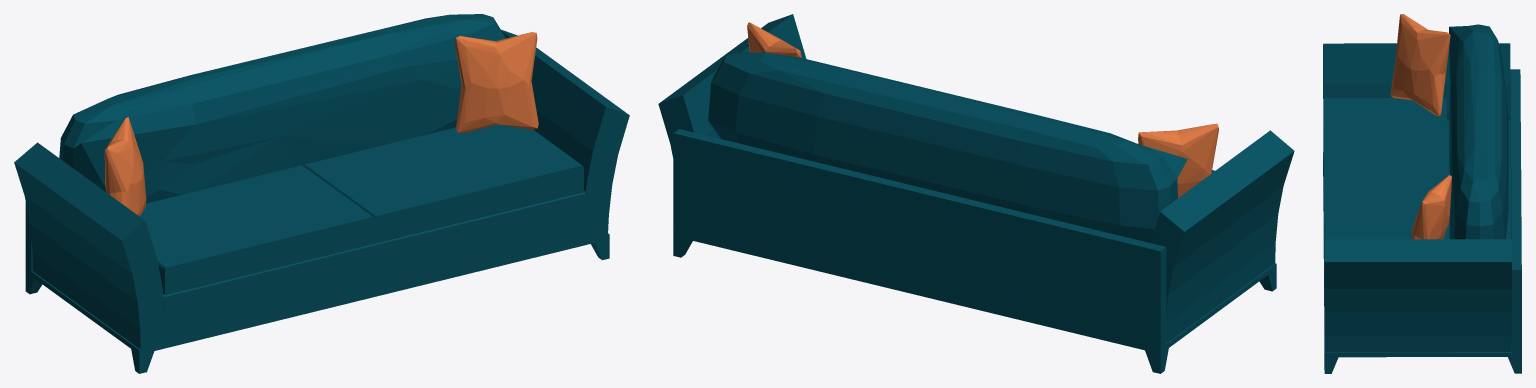
File: Accesories_Sofa_Large.007.glb
3 renders of one model, left to right at view 1: azimuth 30°, elevation 25°; view 2: azimuth 150°, elevation 25°; view 3: azimuth 270°, elevation 25°, orthographic. The views are drawn at different scales.
Visible parts, largest first — view 1: Accesories_Sofa_Large.007; view 2: Accesories_Sofa_Large.007; view 3: Accesories_Sofa_Large.007.
Part boxes in pixels (<box>): Accesories_Sofa_Large.007: <box>14,14,629,373</box>; Accesories_Sofa_Large.007: <box>658,14,1294,373</box>; Accesories_Sofa_Large.007: <box>1323,14,1521,373</box>.
Bounding box in the file's own units: 2.38 × 0.8714 × 0.9216.
Materials: 1 (1 with a texture image).
